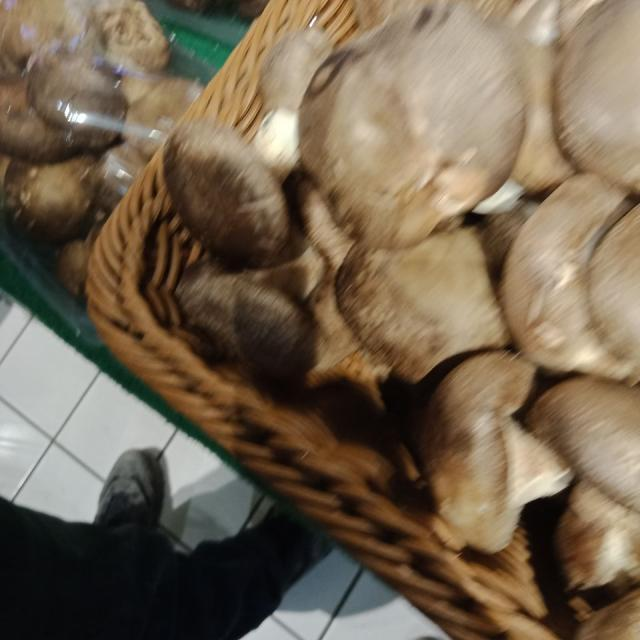Pleurotus cystidiosus: (297, 5, 525, 243), (414, 351, 571, 551), (504, 175, 640, 379), (168, 114, 297, 263)
